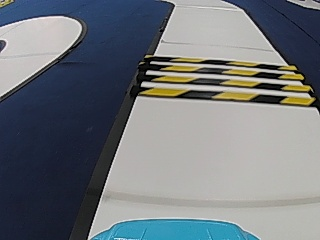bump: (132, 51, 319, 118)
